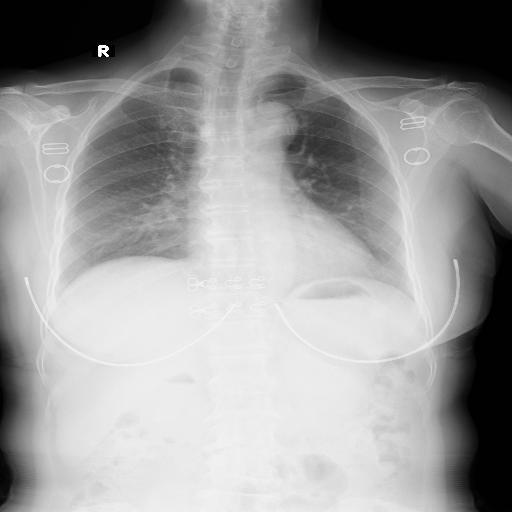Aortic enlargement: (215, 76, 271, 124)
Cardiomegaly: (86, 209, 283, 261)
